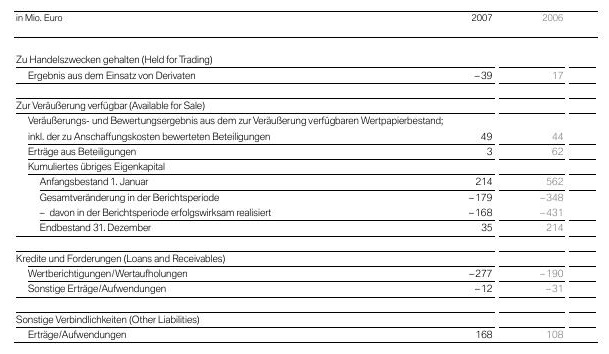table: (0, 0, 609, 354)
